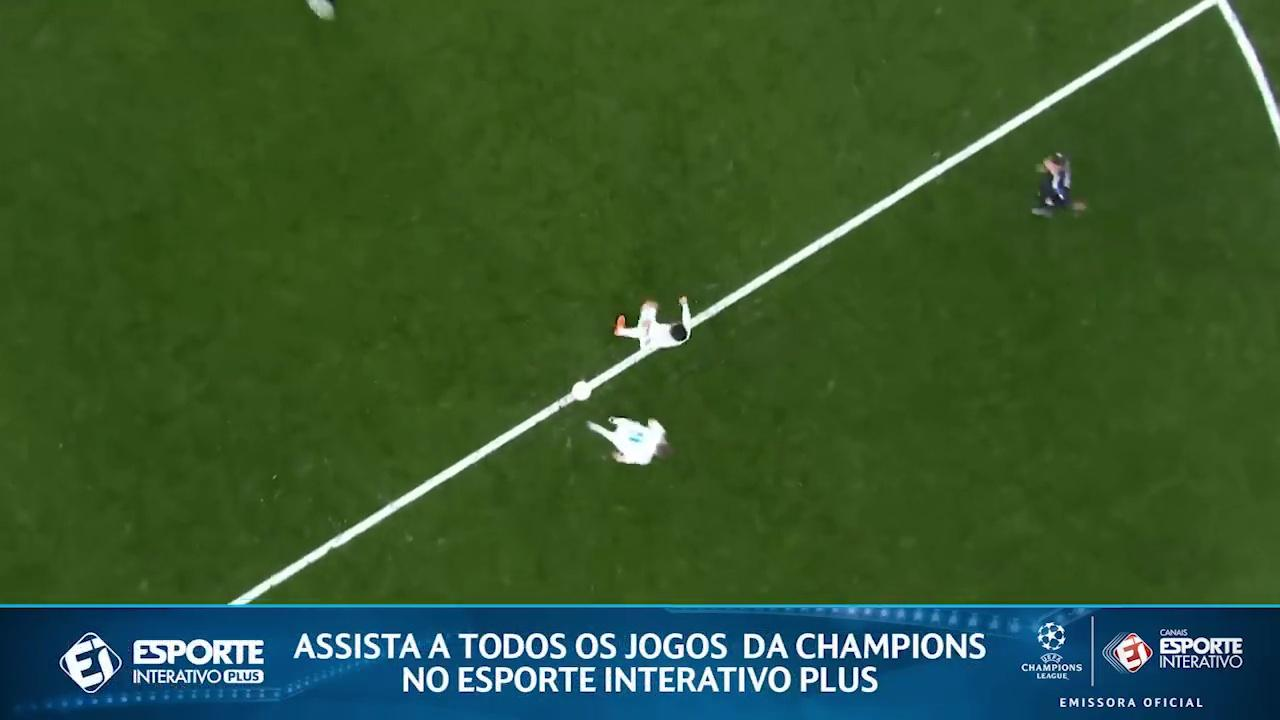football: (567, 377, 596, 407)
player: (614, 296, 691, 349), (587, 417, 670, 464), (1032, 153, 1084, 216), (307, 0, 335, 19)
